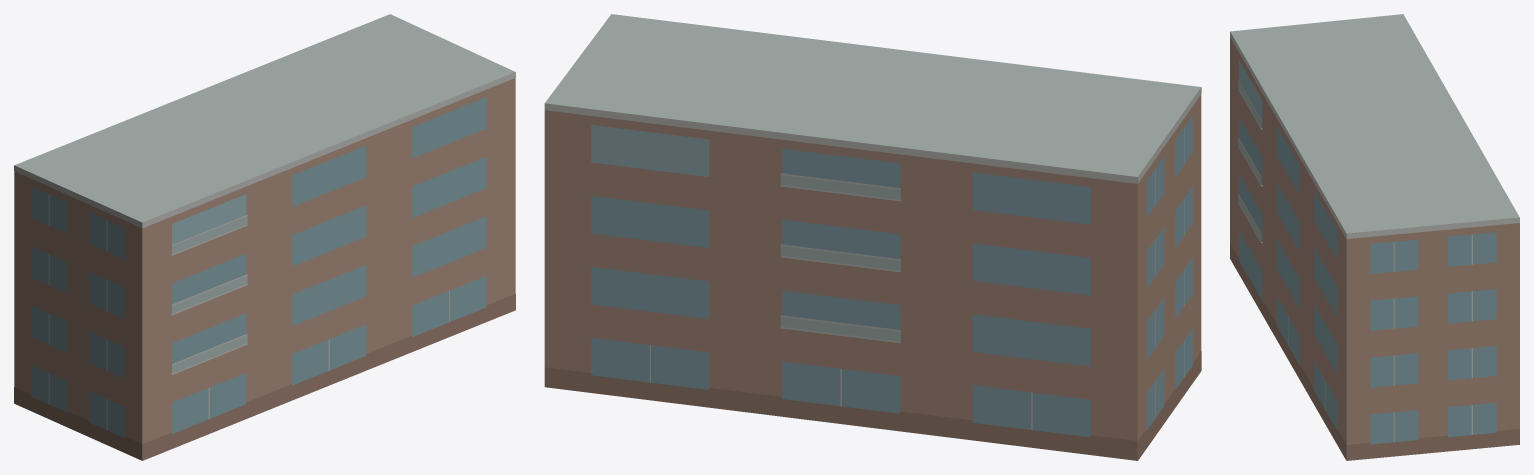
The model's file is survey-upis-32912800.glb.
The picture shows the model from 3 angles, left to right: view 1: azimuth 30°, elevation 25°; view 2: azimuth 150°, elevation 25°; view 3: azimuth 270°, elevation 25°; orthographic projection. The views are drawn at different scales.
Visible parts, largest first — view 1: survey-upis-32912800.tmp; view 2: survey-upis-32912800.tmp; view 3: survey-upis-32912800.tmp.
Boxes of the visible parts, <box> form: survey-upis-32912800.tmp: <box>14,14,515,460</box>; survey-upis-32912800.tmp: <box>544,14,1201,460</box>; survey-upis-32912800.tmp: <box>1230,14,1519,460</box>.
Bounding box in the file's own units: 20.94 × 10.1 × 11.68.
